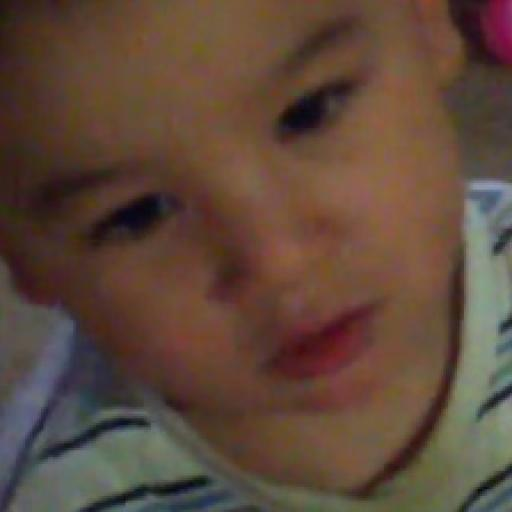Autism: (0, 6, 506, 474)
